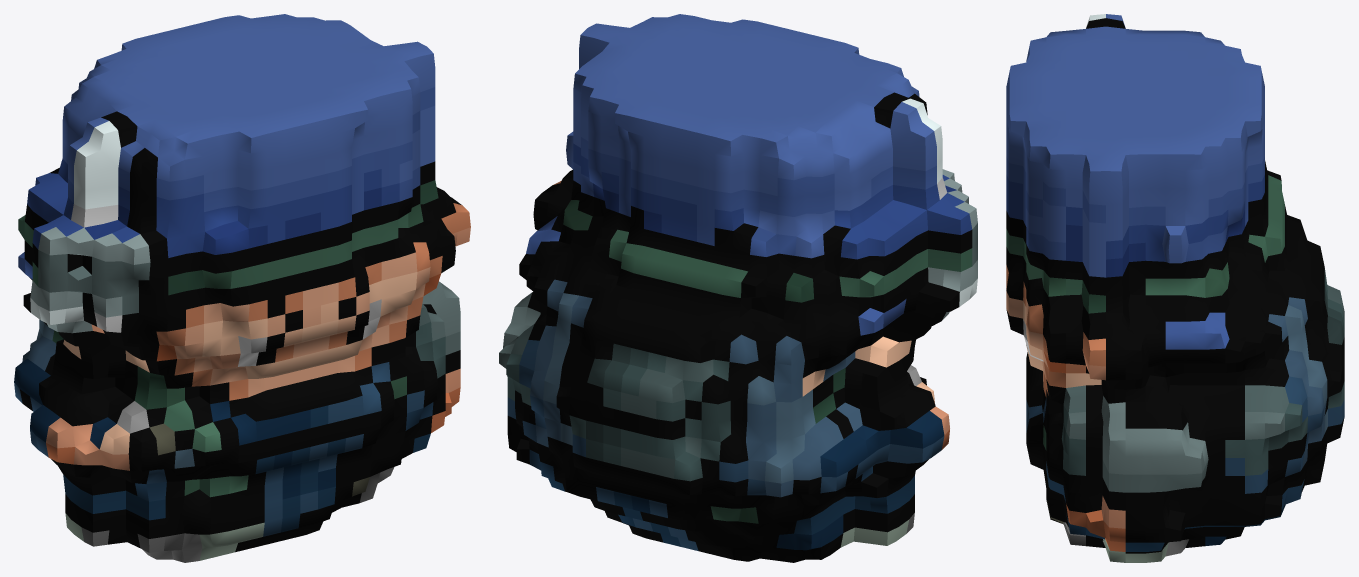
Rendered from Icon_203_03.obj.
3 views of the same model, side by side, from view 1: azimuth 30°, elevation 25°; view 2: azimuth 150°, elevation 25°; view 3: azimuth 270°, elevation 25° (orthographic). The views are drawn at different scales.
Size of the model in its own units: 2.4 by 2.4 by 1.7.
1 material, 1 textured.
